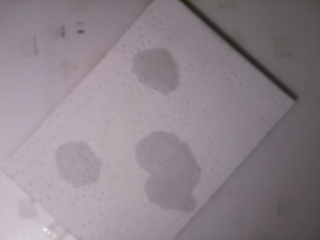Water_detected: (152, 134, 193, 203), (143, 46, 171, 83), (74, 150, 95, 176)
